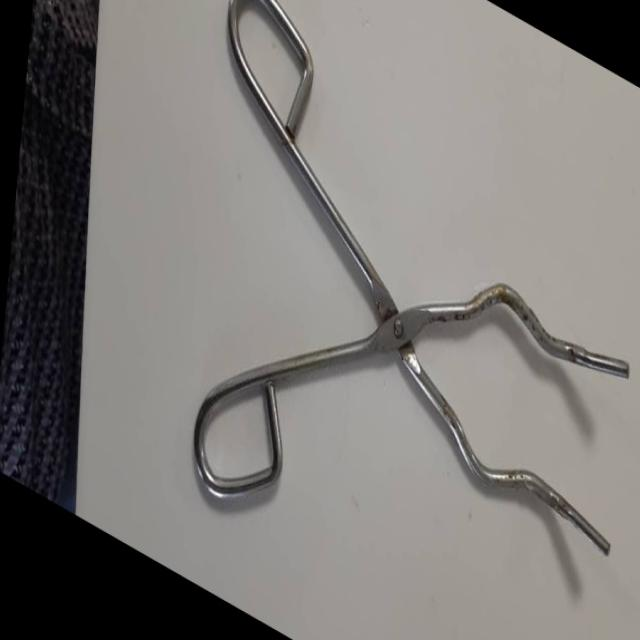Tongue: (160, 0, 640, 640)
